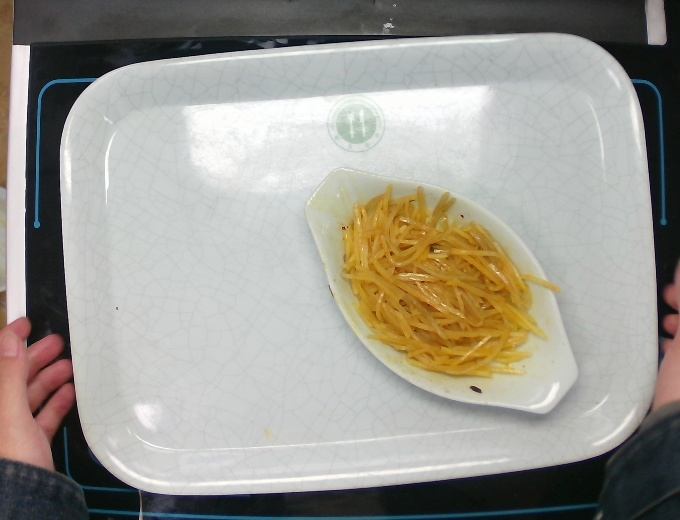JYsf-Yu_Pan: (301, 164, 582, 416)
